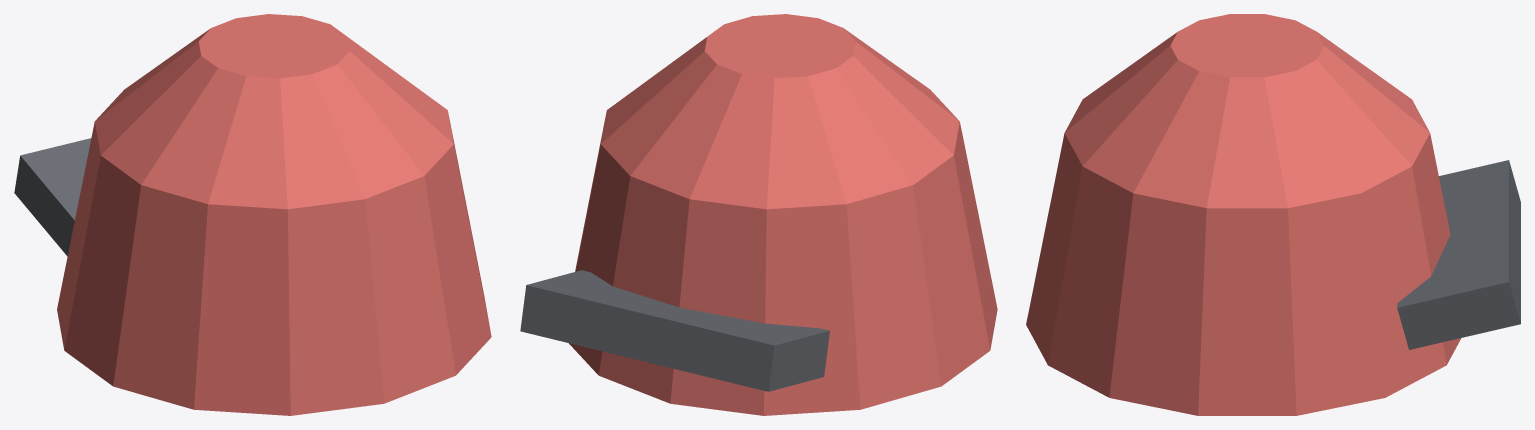
File: Prop_Helmet.glb
The picture shows the model from 3 angles, left to right: view 1: azimuth 30°, elevation 25°; view 2: azimuth 150°, elevation 25°; view 3: azimuth 270°, elevation 25°; orthographic projection.
Parts seen in each view (by area): view 1: Shell, Crown, Visor; view 2: Shell, Crown, Visor; view 3: Shell, Crown, Visor.
Part boxes in pixels (x1,y1,x2,y2): Shell: [57, 115, 491, 415]; Crown: [95, 14, 453, 209]; Visor: [14, 138, 91, 256]; Shell: [569, 117, 997, 415]; Crown: [601, 14, 959, 209]; Visor: [520, 270, 829, 391]; Shell: [1026, 133, 1461, 415]; Crown: [1064, 14, 1429, 208]; Visor: [1397, 160, 1520, 349].
Size of the model in its own units: 0.2242 by 0.16 by 0.2572.
